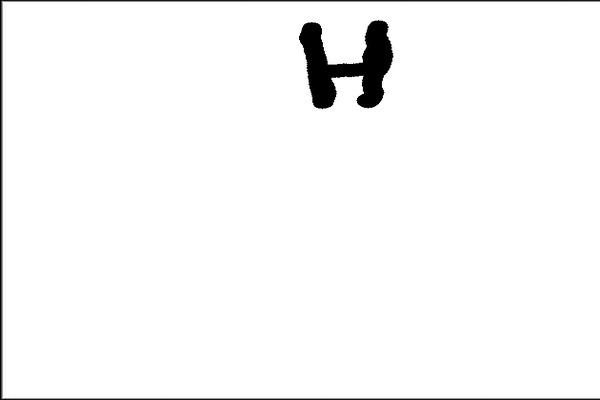H: (292, 10, 397, 112)
